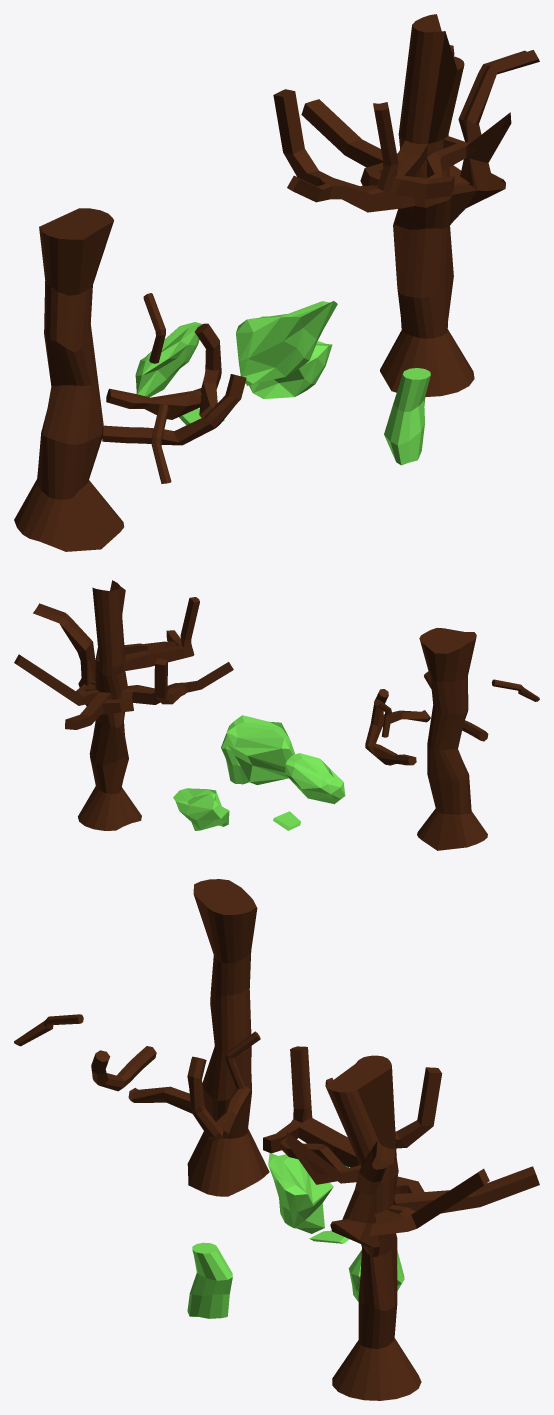
Rendered from treemodel.fbx.
3 renders of one model, top to bottom at view 1: azimuth 30°, elevation 25°; view 2: azimuth 150°, elevation 25°; view 3: azimuth 270°, elevation 25°, orthographic. The views are drawn at different scales.
Parts seen in each view (by area): view 1: tree branch, main-branch, tree-grass-2, branch-3, tree-grass-4, branch-1, tree-grass-3, tree-grass-1, branch-4, branch-2; view 2: tree branch, main-branch, tree-grass-2, tree-grass-3, tree-grass-1, branch-3, tree-grass-4, branch-1, branch-4, tree-grass-5; view 3: tree branch, main-branch, tree-grass-2, branch-3, tree-grass-4, branch-1, branch-4, branch-2.
Part boxes in pixels (bbox=[...]): tree branch: bbox=[273, 14, 539, 396]; main-branch: bbox=[14, 208, 124, 551]; tree-grass-2: bbox=[236, 301, 337, 385]; branch-3: bbox=[106, 323, 221, 419]; tree-grass-4: bbox=[384, 368, 430, 465]; branch-1: bbox=[102, 374, 246, 445]; tree-grass-3: bbox=[135, 322, 202, 397]; tree-grass-1: bbox=[249, 341, 332, 398]; branch-4: bbox=[151, 404, 171, 483]; branch-2: bbox=[143, 293, 165, 363]; tree branch: bbox=[14, 580, 233, 830]; main-branch: bbox=[417, 628, 487, 850]; tree-grass-2: bbox=[226, 715, 294, 784]; tree-grass-3: bbox=[285, 753, 345, 804]; tree-grass-1: bbox=[173, 788, 229, 830]; branch-3: bbox=[365, 689, 430, 765]; tree-grass-4: bbox=[221, 723, 248, 784]; branch-1: bbox=[424, 671, 488, 741]; branch-4: bbox=[491, 679, 539, 701]; tree-grass-5: bbox=[273, 811, 300, 830]; tree branch: bbox=[263, 1046, 539, 1400]; main-branch: bbox=[187, 879, 269, 1196]; tree-grass-2: bbox=[268, 1153, 333, 1233]; branch-3: bbox=[128, 1056, 250, 1140]; tree-grass-4: bbox=[187, 1242, 232, 1318]; branch-1: bbox=[91, 1046, 156, 1091]; branch-4: bbox=[14, 1014, 83, 1046]; branch-2: bbox=[225, 1031, 260, 1088].
Size of the model in its own units: 3406 by 1910 by 2829.
